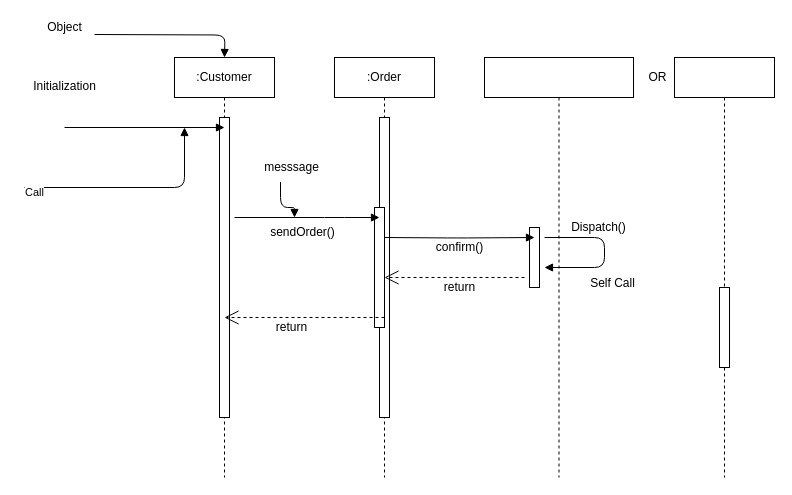
This 792x495 diagram has some shape labels left out. Here are the shapes that lost their labels. From the top down, the box of each, then its label:
(484, 56, 634, 478): :SpecialOrder
(674, 56, 774, 478): :NormalOrder
